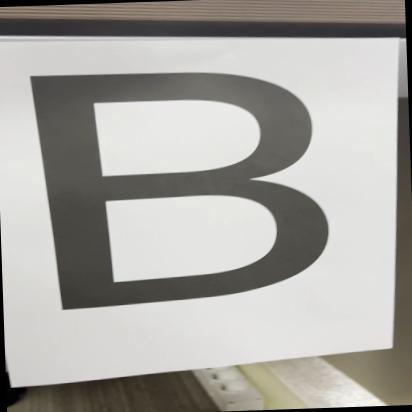seat: (5, 60, 353, 317)
